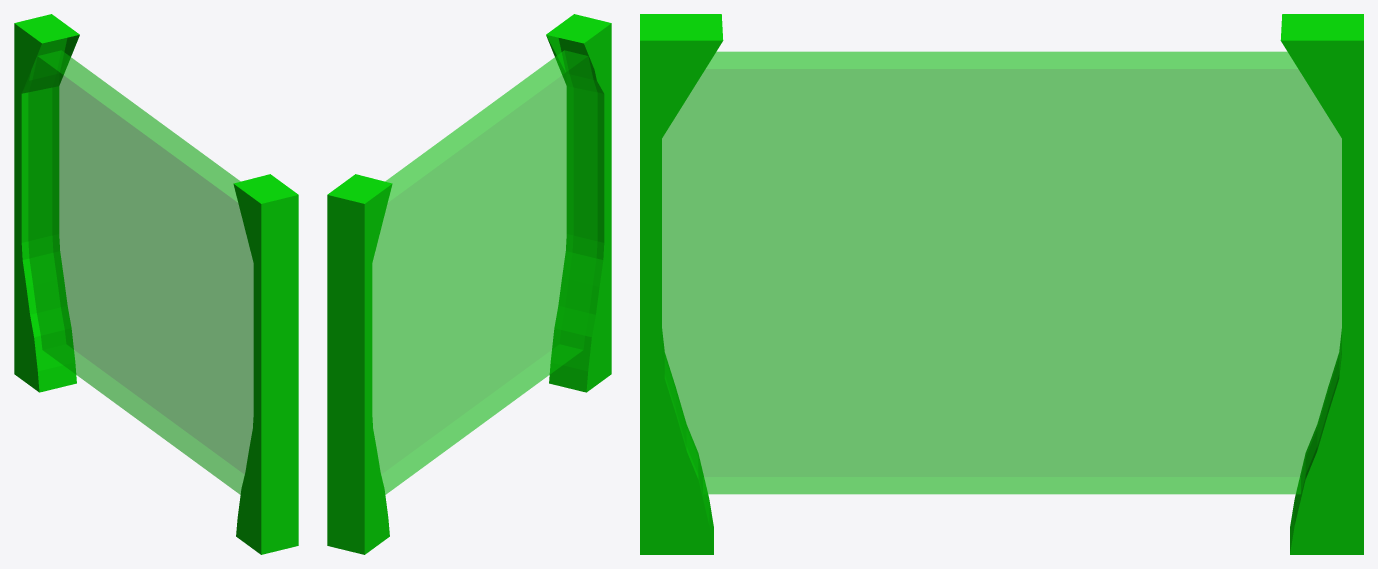
The model's file is gStenka (2).fbx.
3 views of the same model, side by side, from view 1: azimuth 30°, elevation 25°; view 2: azimuth 150°, elevation 25°; view 3: azimuth 270°, elevation 25° (orthographic). The views are drawn at different scales.
Parts seen in each view (by area): view 1: Cube.004; view 2: Cube.004; view 3: Cube.004.
Boxes of the visible parts, x1,y1,x2,y2 form: Cube.004: (14,14,298,554); Cube.004: (327,14,611,554); Cube.004: (640,14,1363,554).
Size of the model in its own units: 98.7 by 882 by 1125.
